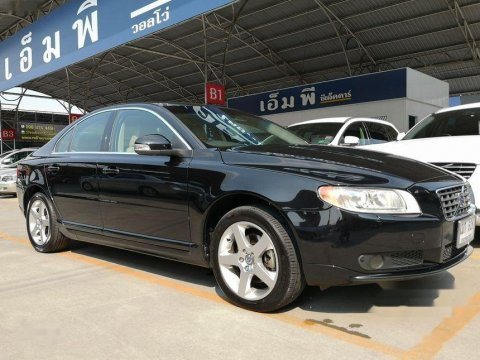sedan: (14, 102, 477, 313)
